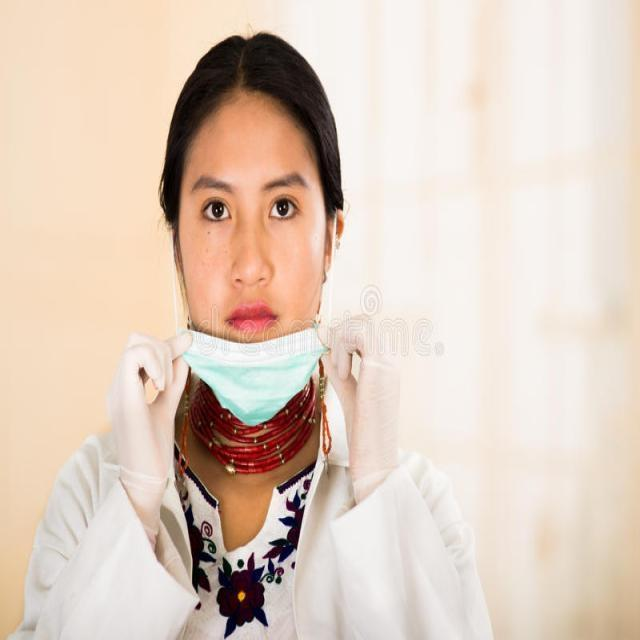hairnet: (156, 2, 346, 448)
